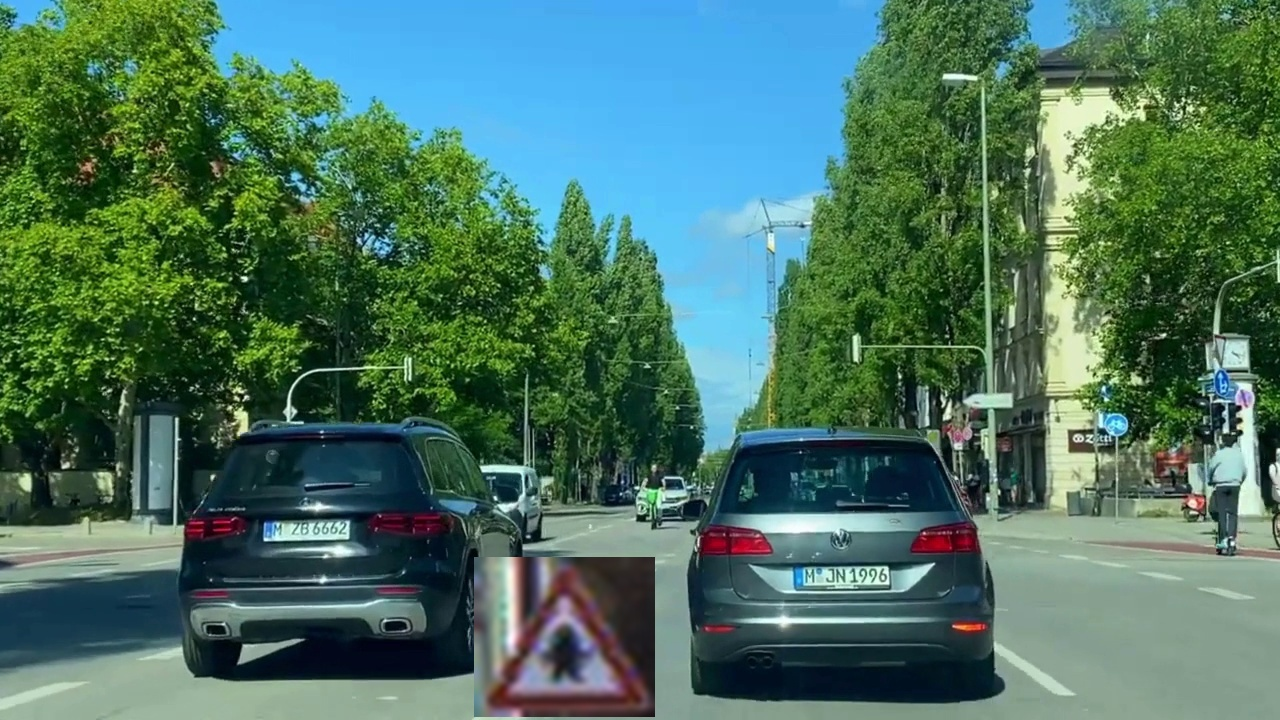Right-of-way: (474, 557, 655, 717)
